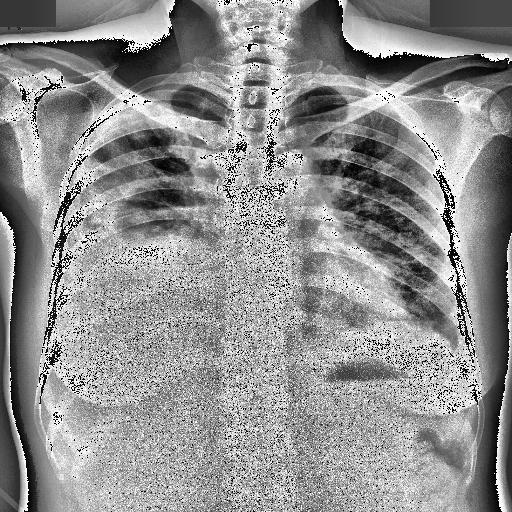10- Pleural effusion: (50, 100, 216, 352), (41, 228, 223, 342), (50, 214, 206, 338)
13- Pulmonary fibrosis: (66, 92, 210, 239), (336, 138, 446, 326)
4- Consolidation: (66, 92, 210, 239), (50, 214, 206, 338), (76, 128, 144, 237)
6- Infiltration: (317, 104, 468, 349), (336, 138, 446, 326)
7- Lung Opacity: (317, 104, 468, 349), (74, 96, 222, 244), (66, 92, 210, 239), (336, 138, 446, 326), (334, 198, 460, 330), (72, 126, 190, 266)
